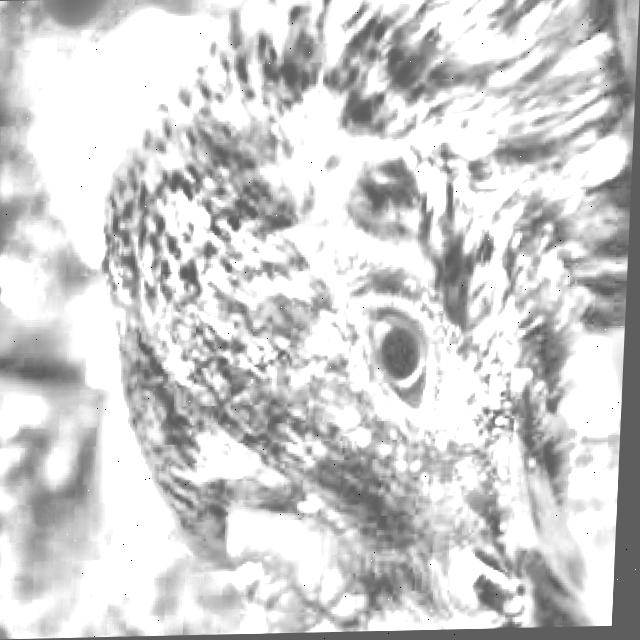Healthy: (354, 274, 462, 440)
